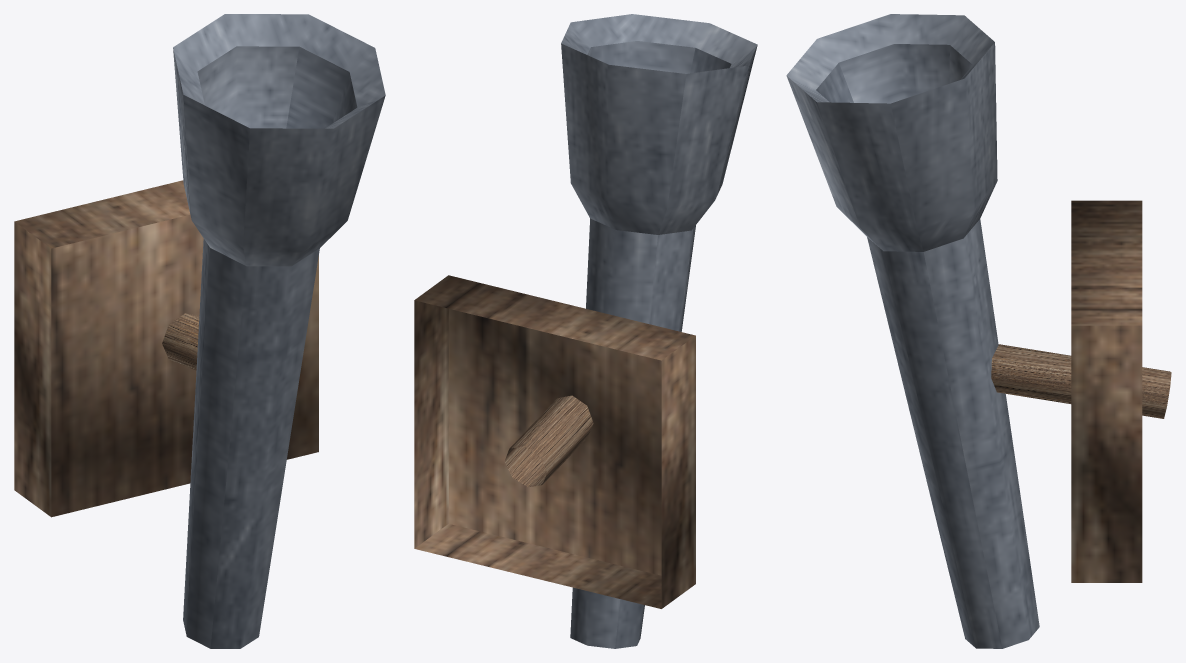
The model's file is wall_torch.glb.
The picture shows the model from 3 angles, left to right: view 1: azimuth 30°, elevation 25°; view 2: azimuth 150°, elevation 25°; view 3: azimuth 270°, elevation 25°; orthographic projection. The views are drawn at different scales.
Parts seen in each view (by area): view 1: Torch; view 2: Torch; view 3: Torch.
Part boxes in pixels (bbox=[...]): Torch: bbox=[14, 14, 385, 648]; Torch: bbox=[414, 14, 757, 648]; Torch: bbox=[786, 14, 1171, 648].
Size of the model in its own units: 0.175 by 0.3898 by 0.228.
3 materials, 2 textured.
